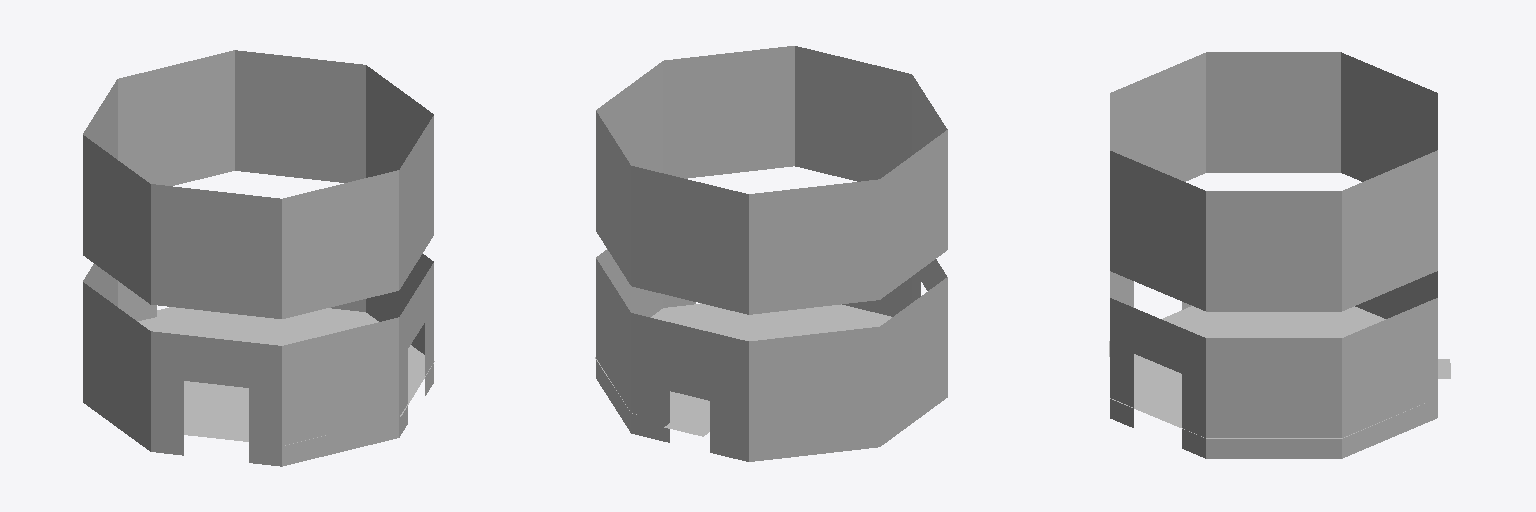
The model's file is wall.obj.
3 renders of one model, left to right at view 1: azimuth 30°, elevation 25°; view 2: azimuth 150°, elevation 25°; view 3: azimuth 270°, elevation 25°, orthographic.
Visible parts, largest first — view 1: Mesh_0006_Mesh_0006Mesh, Mesh_0007_Mesh_0007Mesh; view 2: Mesh_0006_Mesh_0006Mesh, Mesh_0007_Mesh_0007Mesh; view 3: Mesh_0006_Mesh_0006Mesh, Mesh_0007_Mesh_0007Mesh.
Boxes of the visible parts, box(x1,y1,x2,y2) form: Mesh_0006_Mesh_0006Mesh: box(83, 50, 433, 466); Mesh_0007_Mesh_0007Mesh: box(138, 307, 434, 445); Mesh_0006_Mesh_0006Mesh: box(596, 46, 947, 461); Mesh_0007_Mesh_0007Mesh: box(595, 303, 891, 436); Mesh_0006_Mesh_0006Mesh: box(1110, 52, 1437, 458); Mesh_0007_Mesh_0007Mesh: box(1109, 306, 1450, 438).
Bounding box in the file's own units: 12.37 × 11.1 × 12.82.